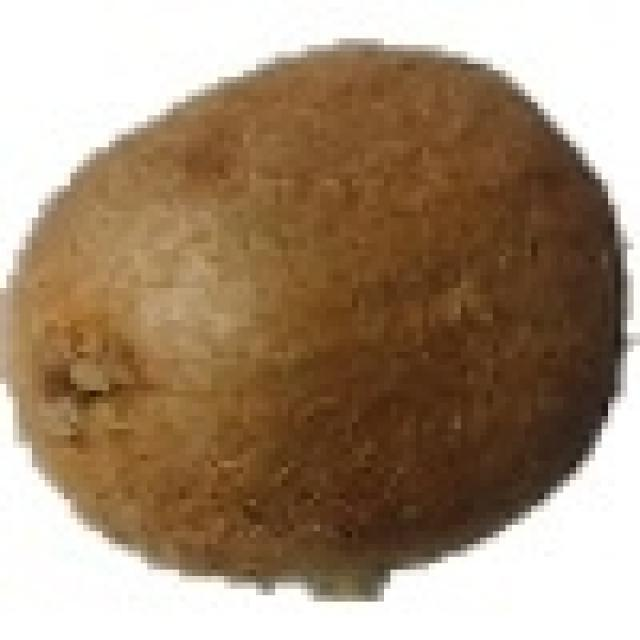kiwi: (6, 38, 608, 582)
